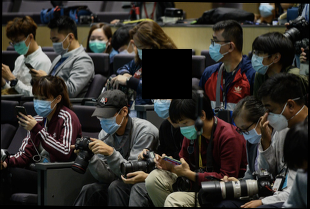with_mask: (264, 101, 289, 132), (94, 111, 123, 135), (151, 90, 173, 121), (250, 48, 273, 76), (236, 121, 262, 145), (33, 91, 56, 118), (209, 33, 229, 63), (177, 115, 200, 141), (87, 32, 110, 54), (132, 41, 153, 63), (50, 33, 71, 54), (8, 37, 31, 56), (116, 43, 137, 58)
